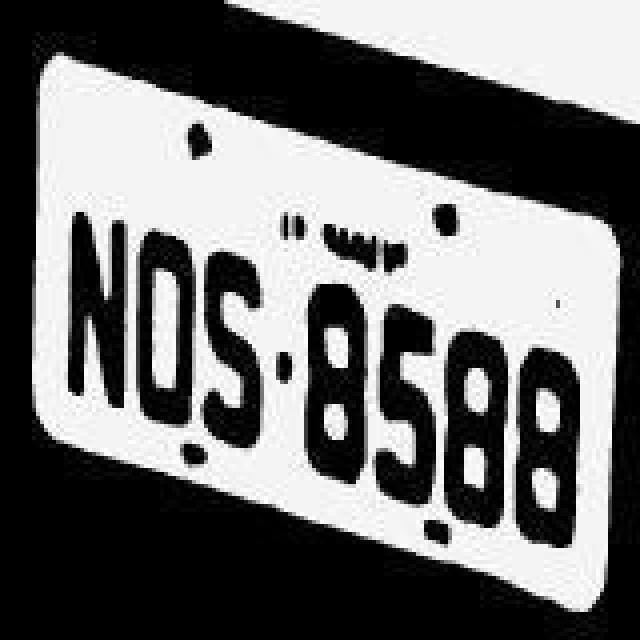5: (374, 290, 442, 510)
8: (438, 286, 514, 538), (514, 316, 590, 564), (296, 270, 376, 498)
N: (58, 158, 134, 418)
O: (128, 220, 200, 436)
S: (202, 238, 278, 450)
